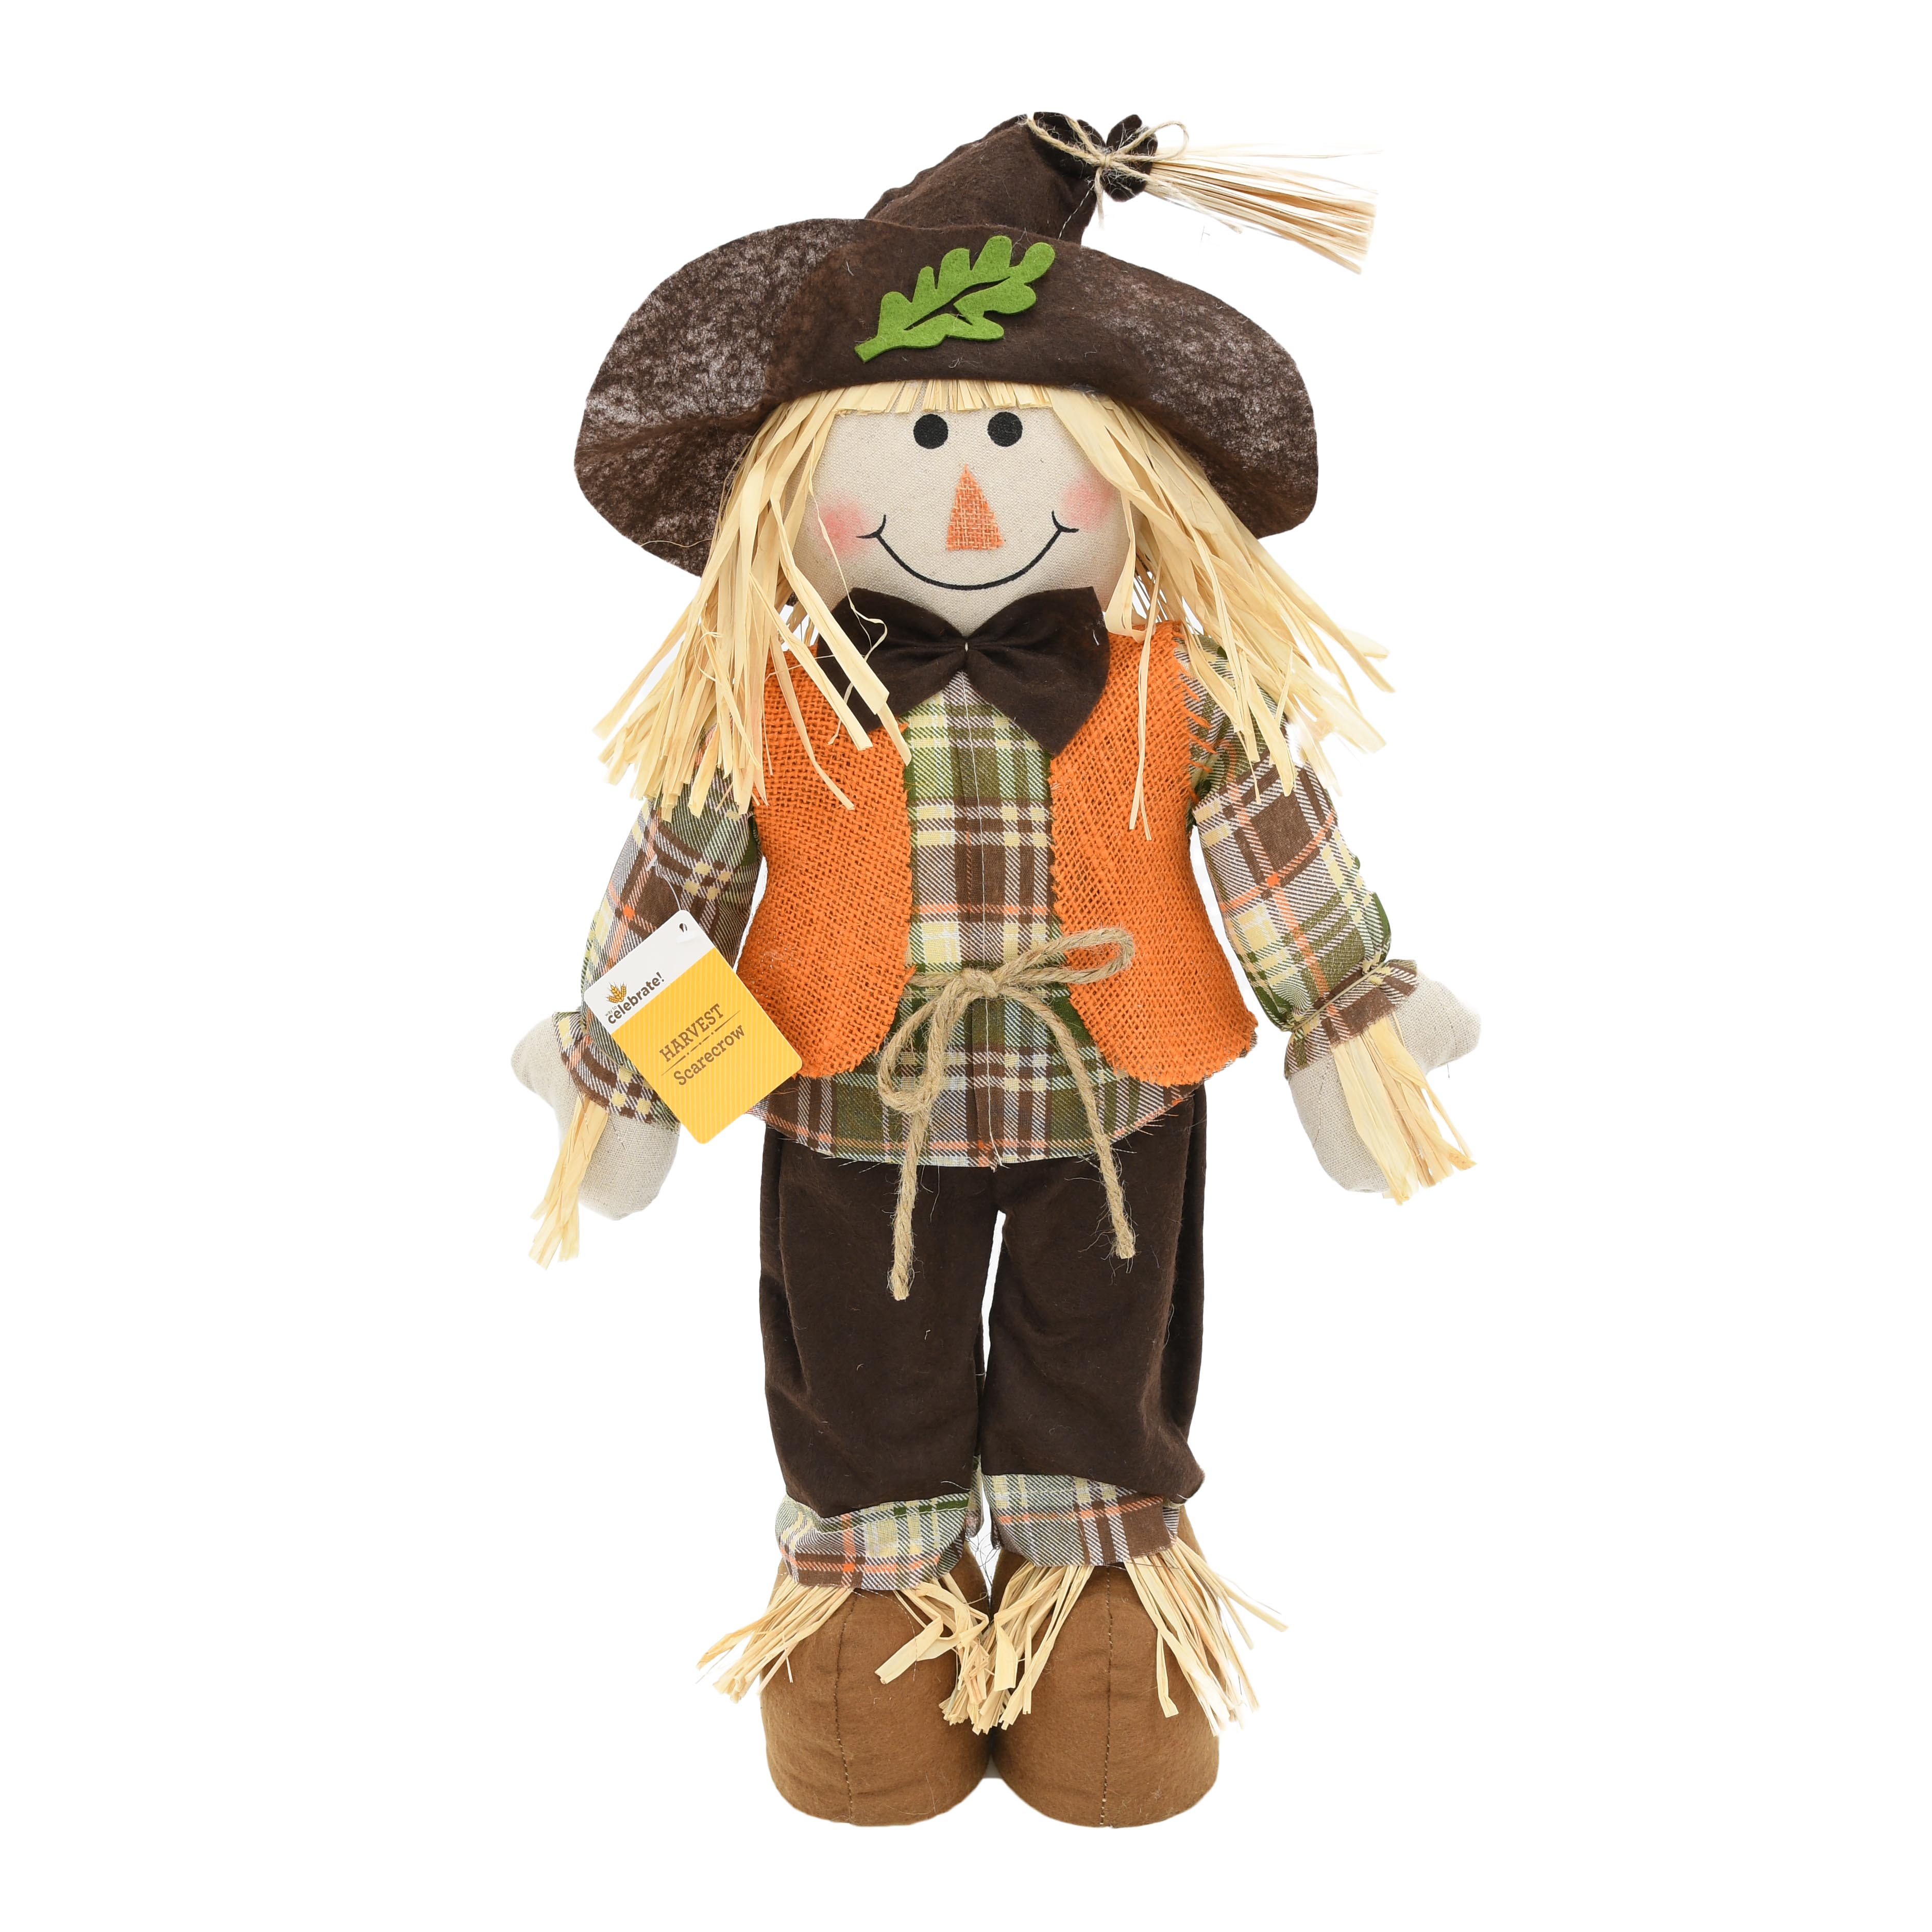person-like: (477, 77, 1498, 1846)
